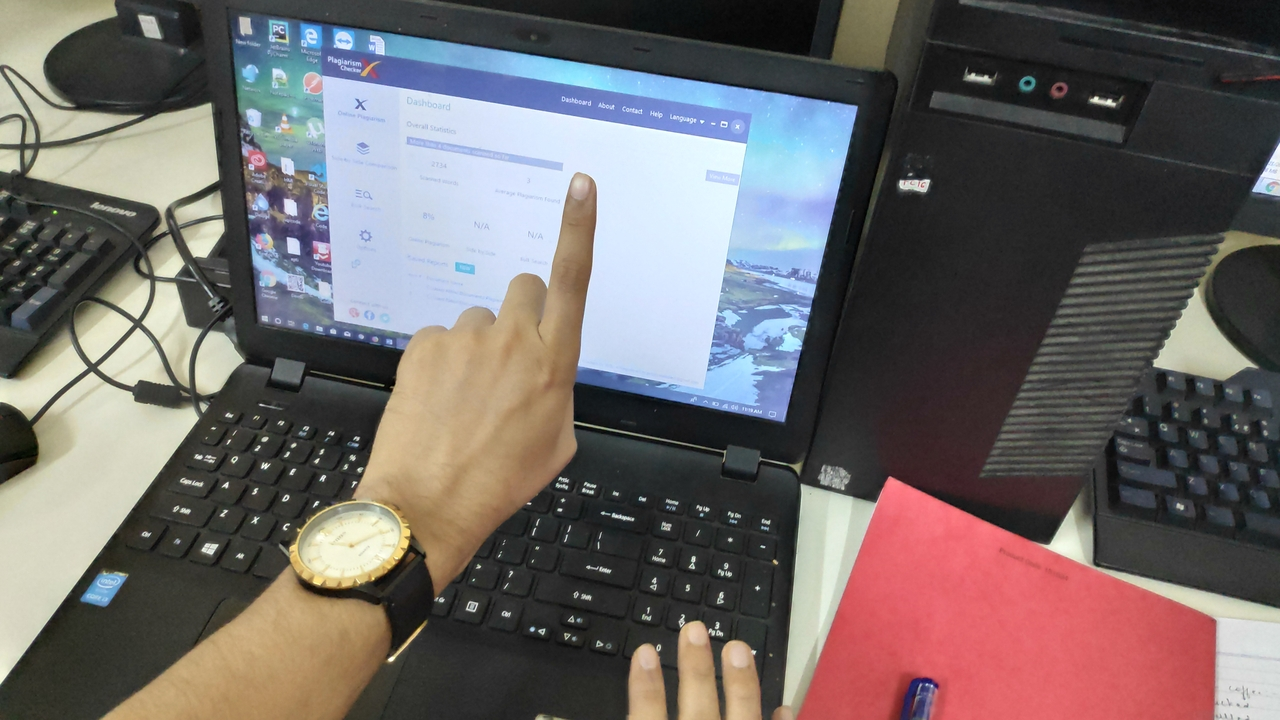fingertip: (552, 160, 604, 210)
